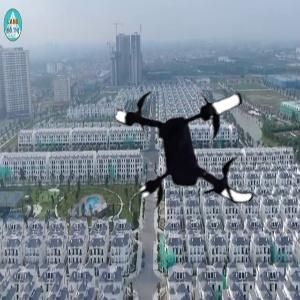drone: (113, 64, 278, 229)
